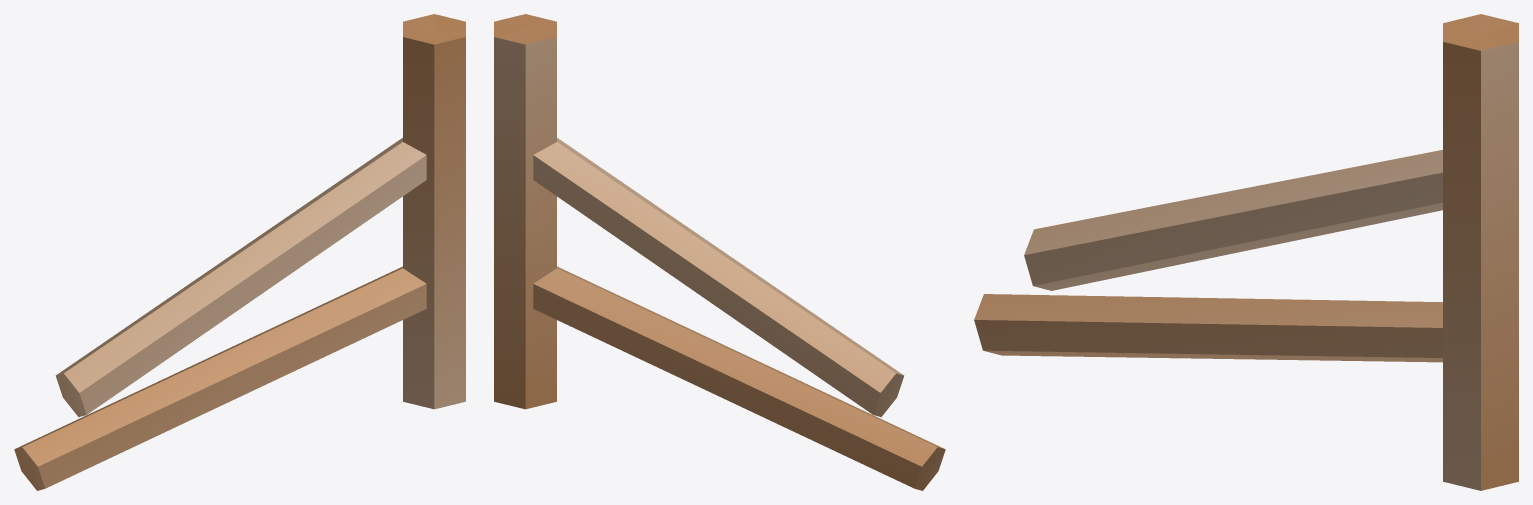
The model's file is CercaBroken.fbx.
The picture shows the model from 3 angles, left to right: view 1: azimuth 30°, elevation 25°; view 2: azimuth 150°, elevation 25°; view 3: azimuth 330°, elevation 25°; orthographic projection. The views are drawn at different scales.
Visible parts, largest first — view 1: CercaBroken_LOD0; view 2: CercaBroken_LOD0; view 3: CercaBroken_LOD0.
Part boxes in pixels (x1,y1,x2,y2): CercaBroken_LOD0: (14,14,465,490); CercaBroken_LOD0: (494,14,945,490); CercaBroken_LOD0: (974,14,1518,490).
Size of the model in its own units: 132 by 104 by 16.25.
